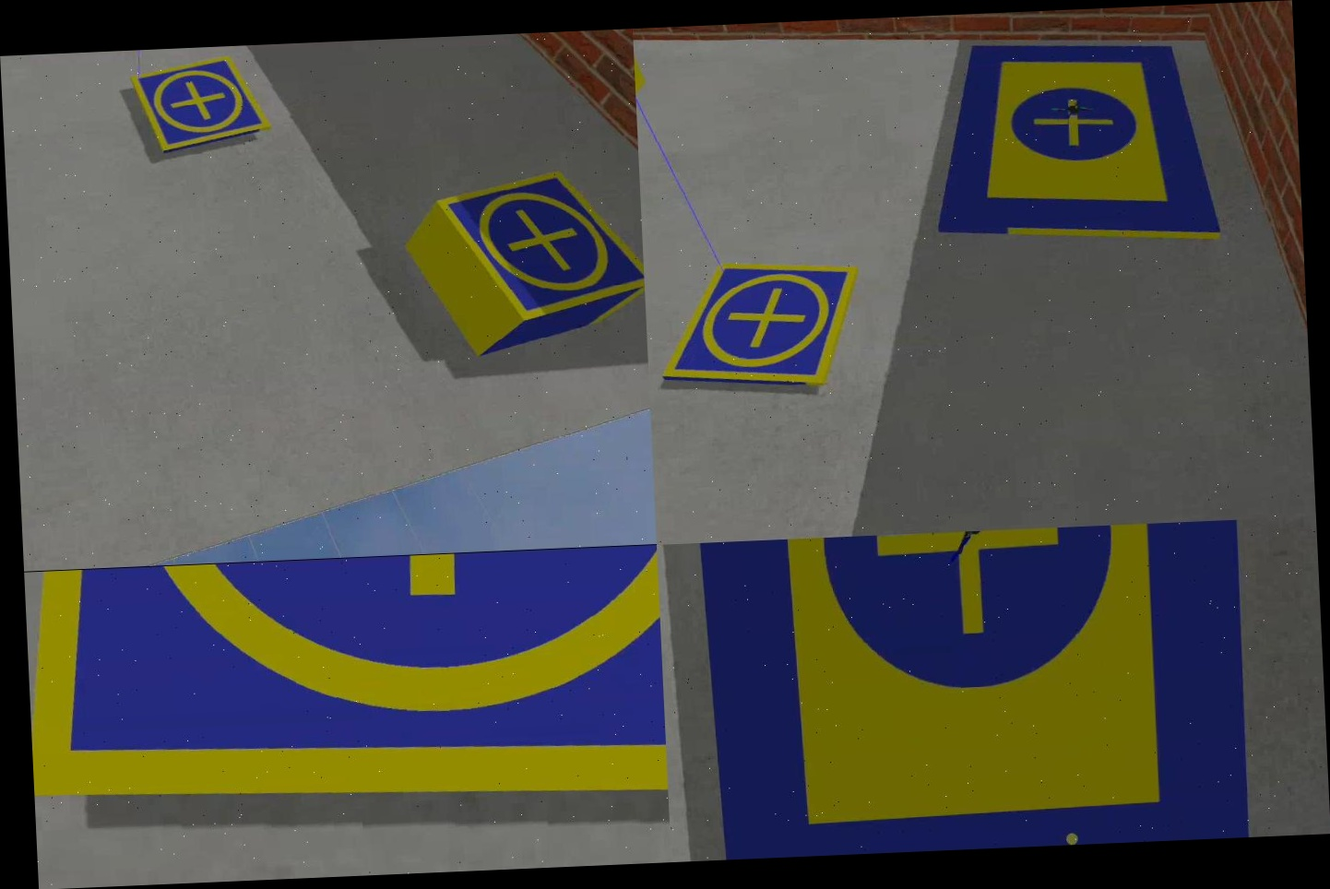large_base: (695, 520, 1250, 859), (932, 30, 1225, 251)
small_base: (24, 545, 669, 824), (435, 169, 646, 324), (657, 261, 870, 397), (132, 57, 271, 158)
